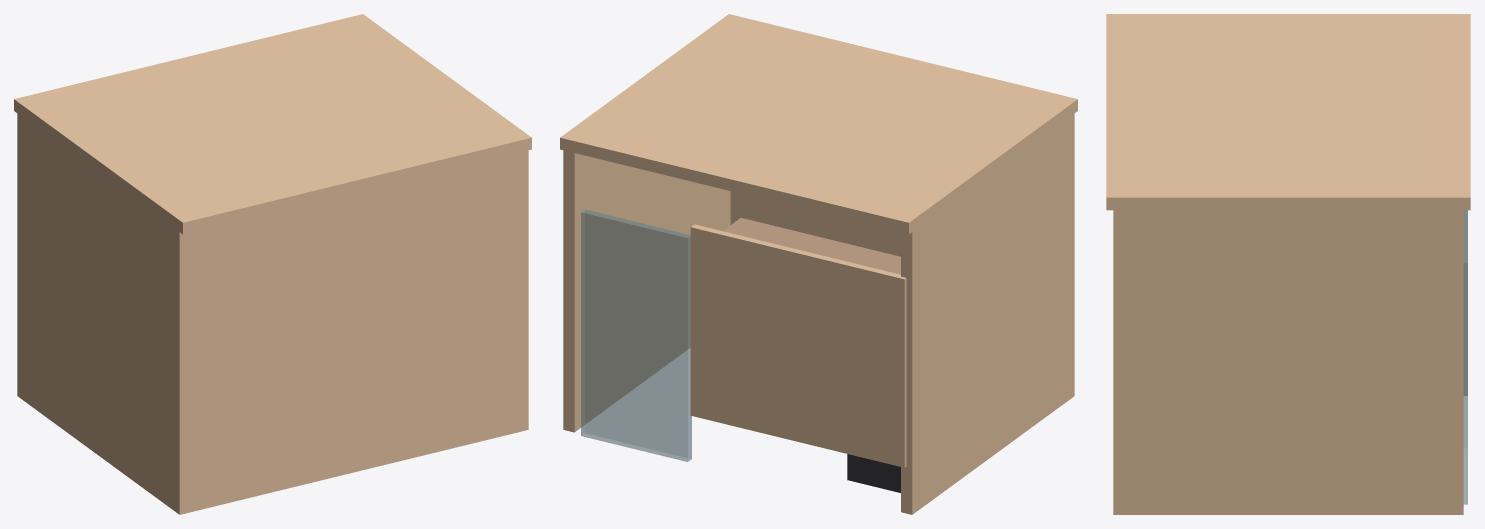
File: sauna_cabin.glb
3 renders of one model, left to right at view 1: azimuth 30°, elevation 25°; view 2: azimuth 150°, elevation 25°; view 3: azimuth 270°, elevation 25°, orthographic. The views are drawn at different scales.
Visible parts, largest first — view 1: sauna_cabin; view 2: sauna_cabin; view 3: sauna_cabin.
Part boxes in pixels (x1=…): sauna_cabin: x1=14, y1=14, x2=531, y2=514; sauna_cabin: x1=560, y1=14, x2=1077, y2=514; sauna_cabin: x1=1106, y1=14, x2=1470, y2=514.
Bounding box in the file's own units: 3.1 × 2.5 × 2.6.
